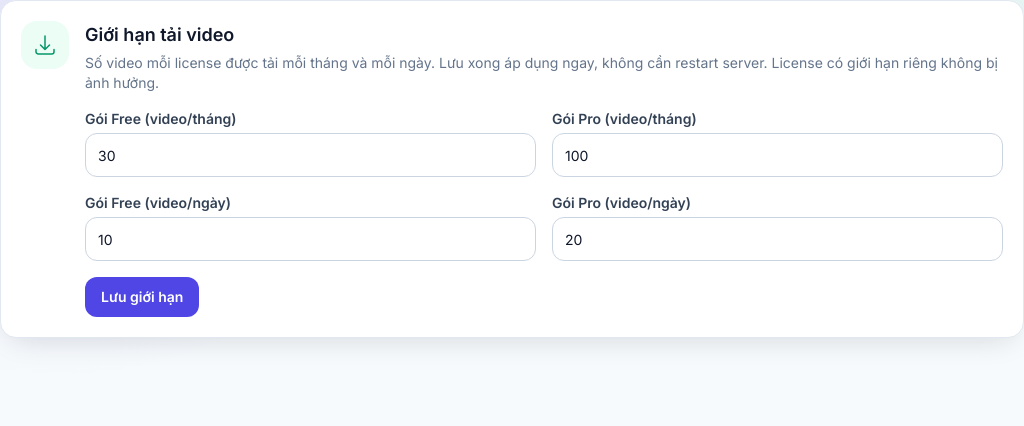
Test case: QuotaSettingsCard › does not submit when nothing changed
Expected: the number field showing "30" is shown, [85, 133, 536, 177]
Click the button "Lưu giới hạn" at (142, 297), box [85, 277, 199, 317]
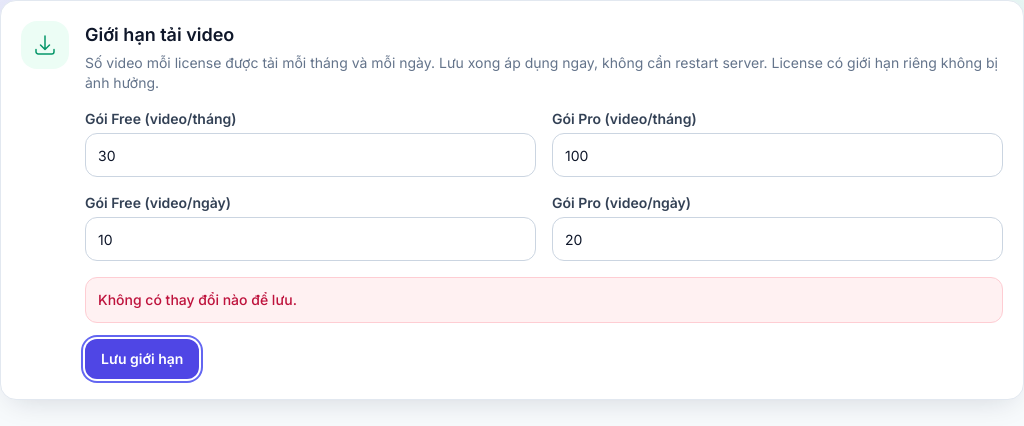
Now the text "Không có thay đổi nào để lưu." is shown, box [85, 277, 1003, 323]
